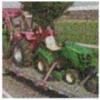tractors: (3, 9, 99, 90)
